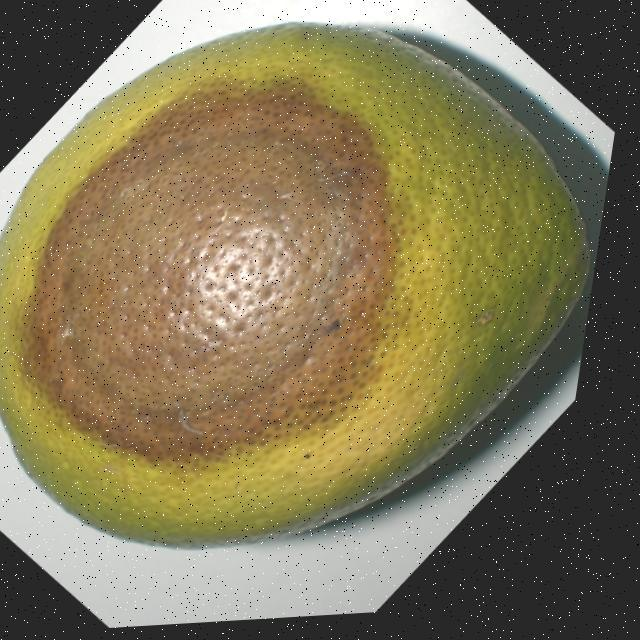Rotten: (0, 23, 589, 547)
